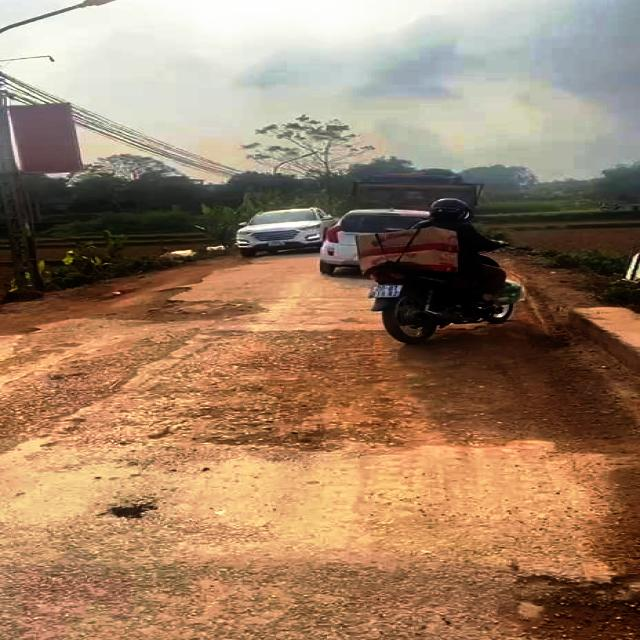pothole: (498, 567, 640, 640), (87, 284, 273, 326)
